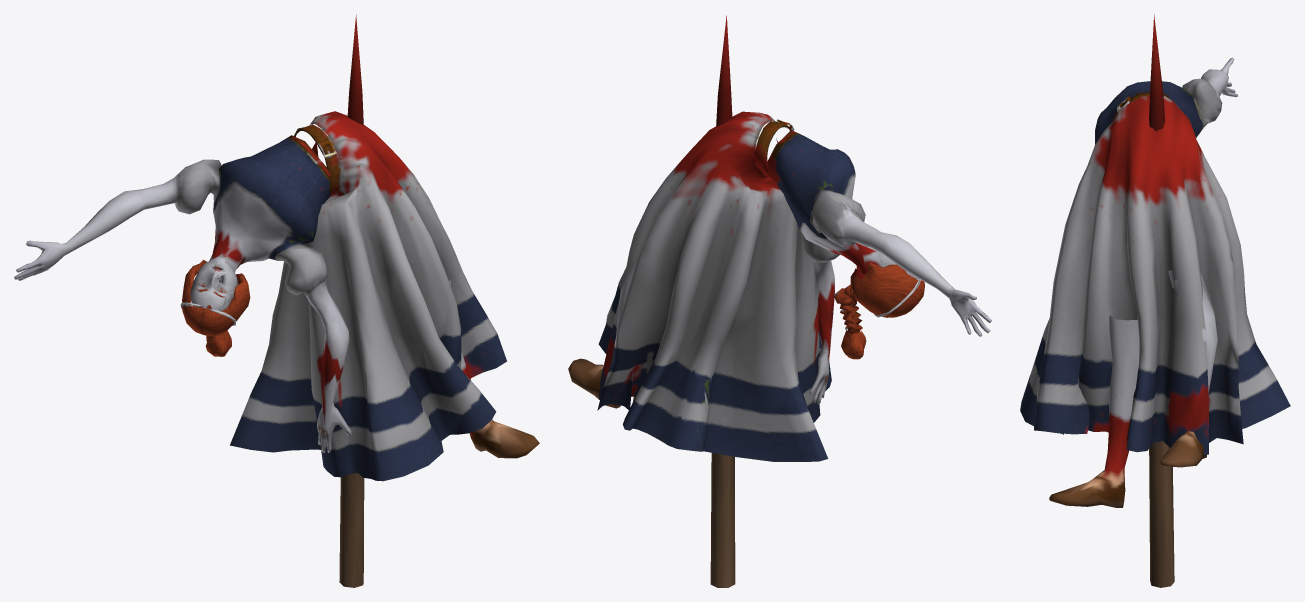
Rendered from mm6_deco_corpse04.glb.
3 views of the same model, side by side, from view 1: azimuth 30°, elevation 25°; view 2: azimuth 150°, elevation 25°; view 3: azimuth 270°, elevation 25° (orthographic).
Parts seen in each view (by area): view 1: Corpse04; view 2: Corpse04; view 3: Corpse04.
Boxes of the visible parts, <box> form: Corpse04: <box>14,14,539,587</box>; Corpse04: <box>568,15,991,587</box>; Corpse04: <box>1020,14,1290,587</box>.
Size of the model in its own units: 1.31 by 1.59 by 0.686.
Materials: 2 (2 with a texture image).
